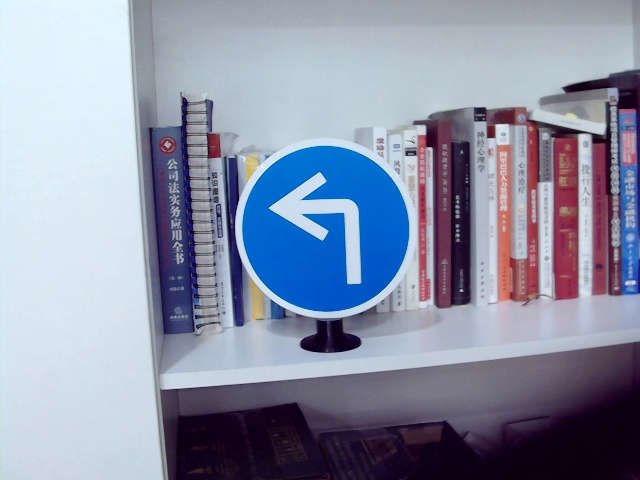turn_left: (272, 169, 367, 292)
